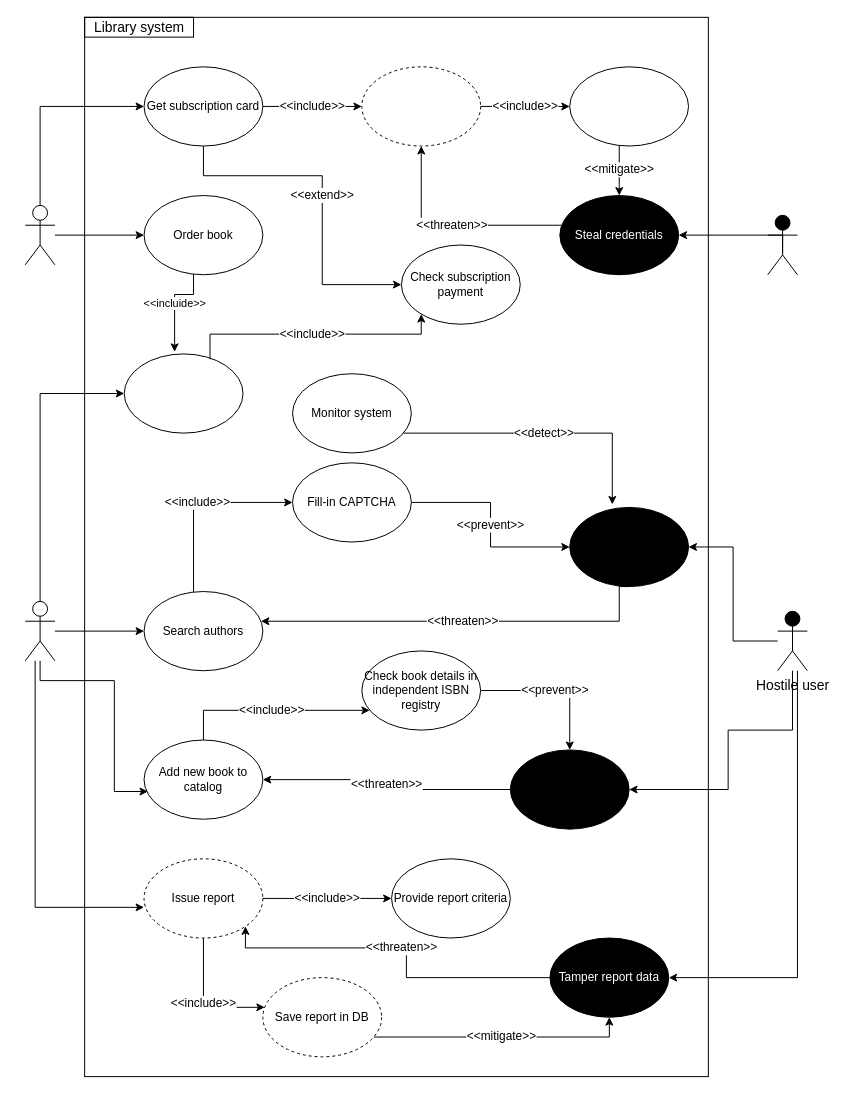
This 846x1094 diagram has some shape labels left out. Here are the shapes that lost their labels. From the top down, the centre of each, then its label:
At [421,106]: "Pay".
At [629,106]: "Use encrypted connection".
At [39,234]: "Reader".
At [782,244]: "Crook".
At [183,393]: "Rent book".
At [629,546]: "Flood system".
At [39,630]: "Librarian".
At [569,789]: "Add non-existing book".
